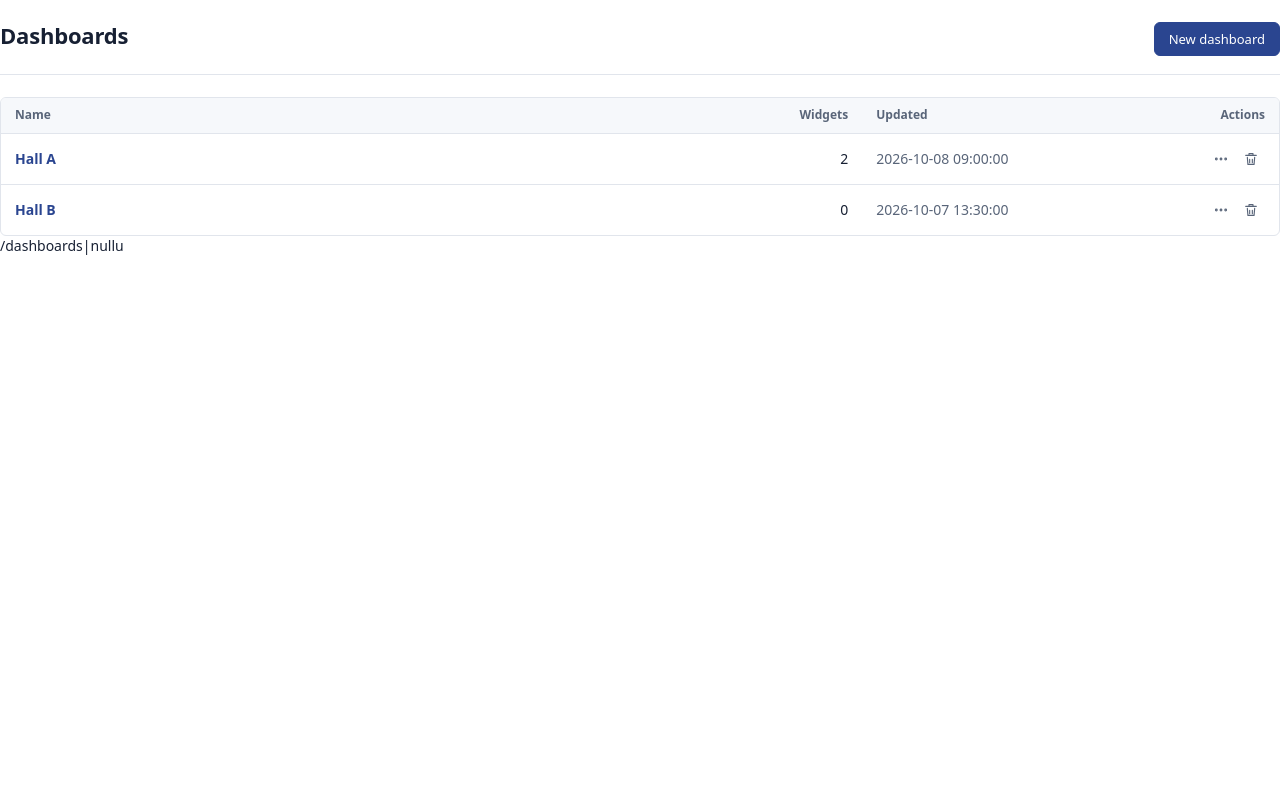
Test: DashboardsPage › a delete the server refuses is shown above the list and raises no toast
Click the button named "Delete Hall A" at (1251, 159), box x1=1237 y1=145 x2=1265 y2=173
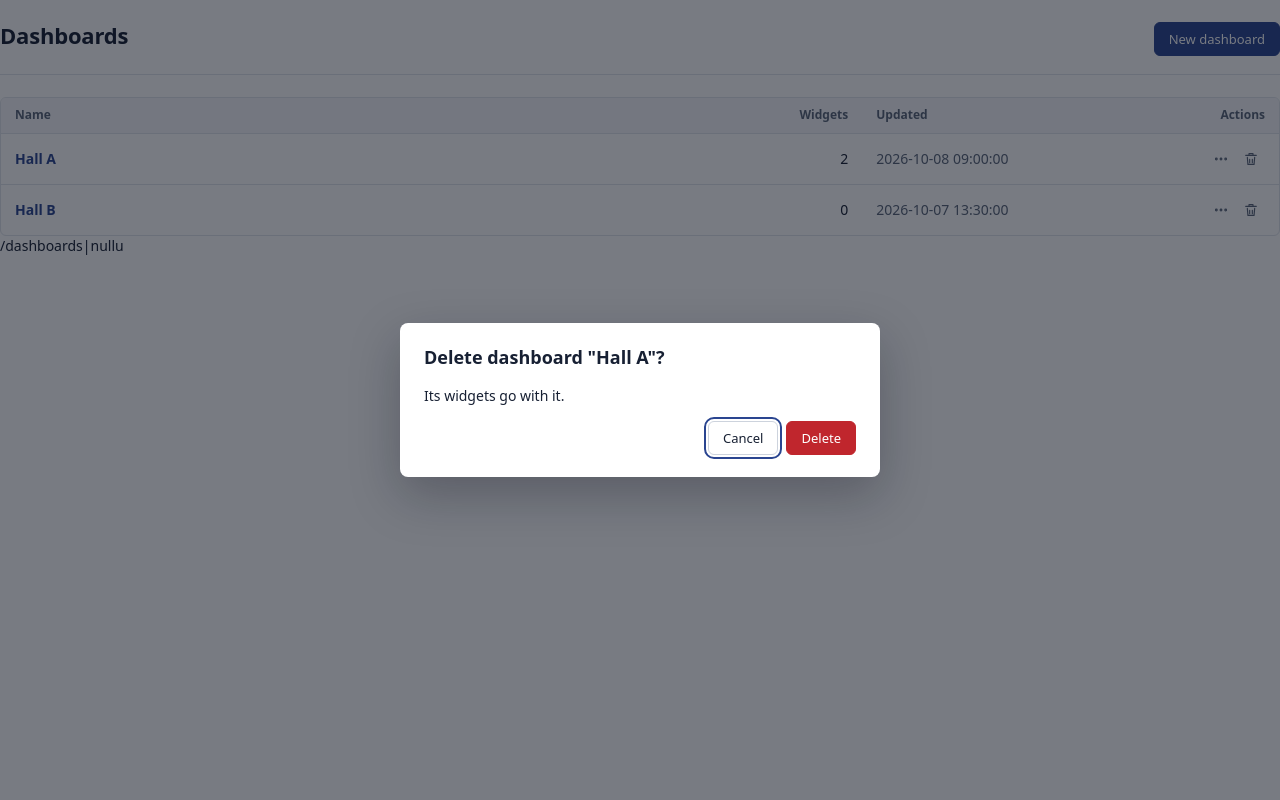
Click the button "Delete" at (821, 438), box x1=786 y1=421 x2=856 y2=455
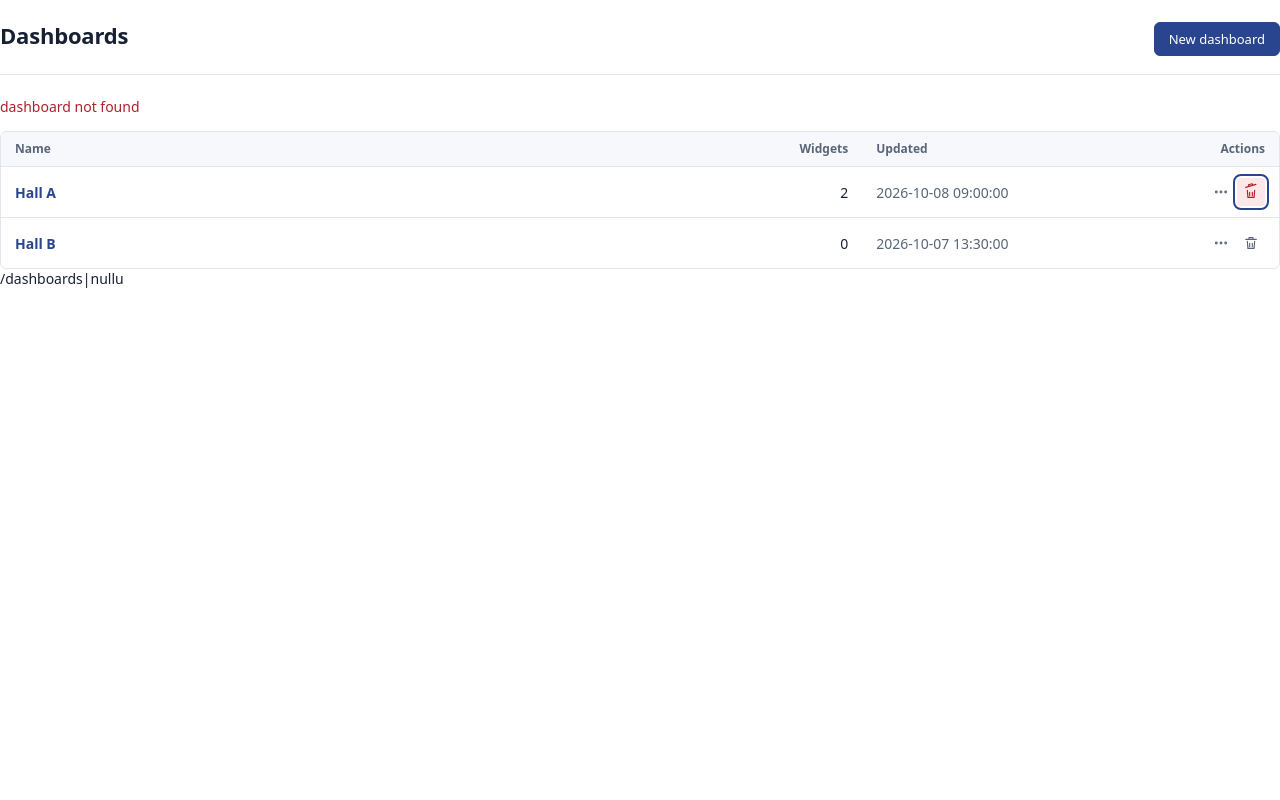
Now the message reads "dashboard not found", box x1=0 y1=97 x2=140 y2=116
